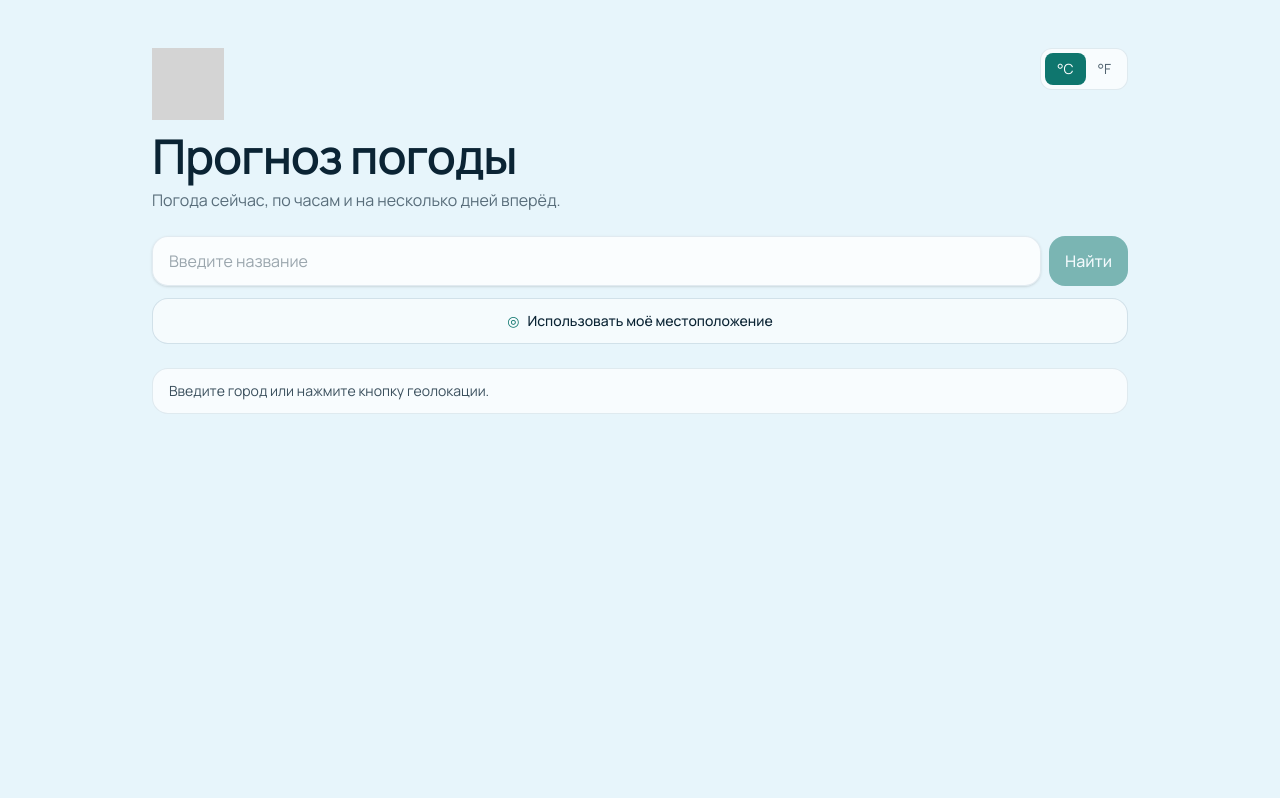
Test: WeatherApp scenarios › lets user pick a city when there are several matches
Type "Paris" into the search field named "Поиск города" at (596, 261), box [152,236,1041,286]
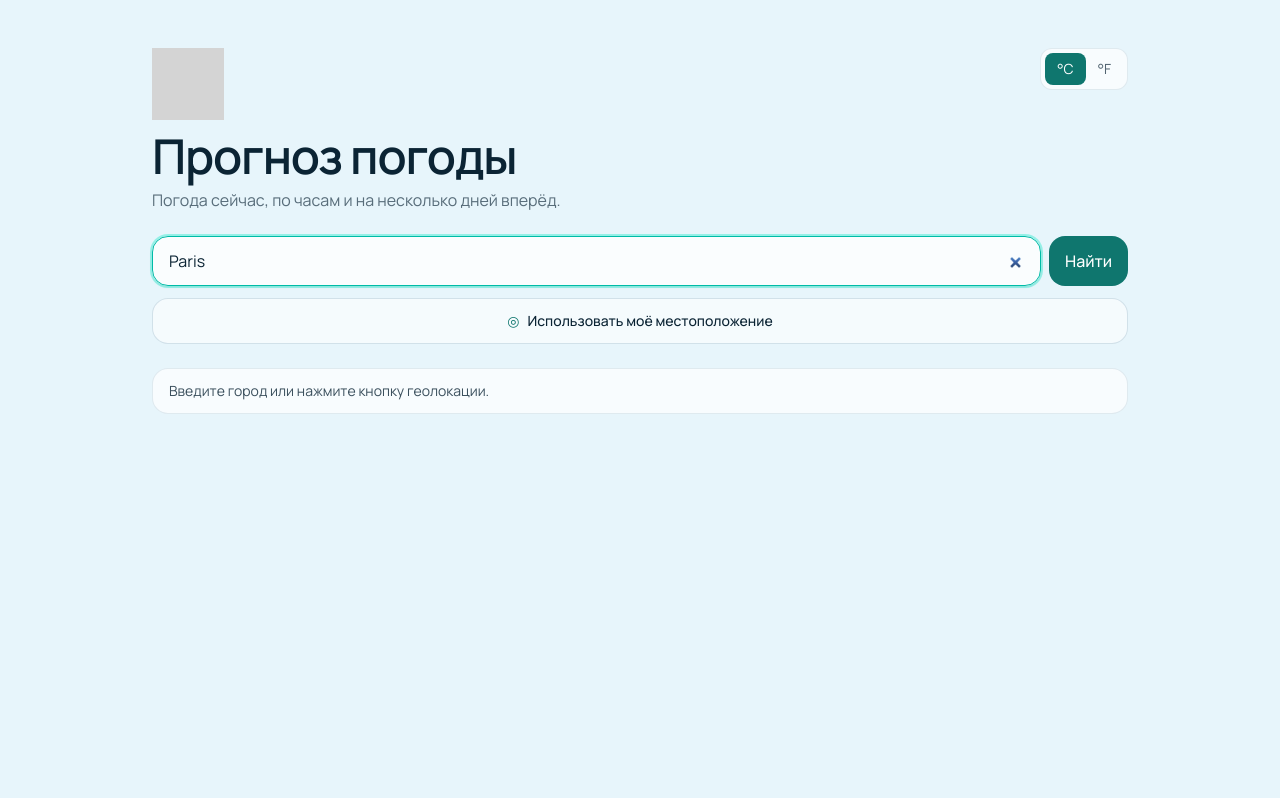
Click the button "Найти" at (1088, 261), box [1049,236,1128,286]
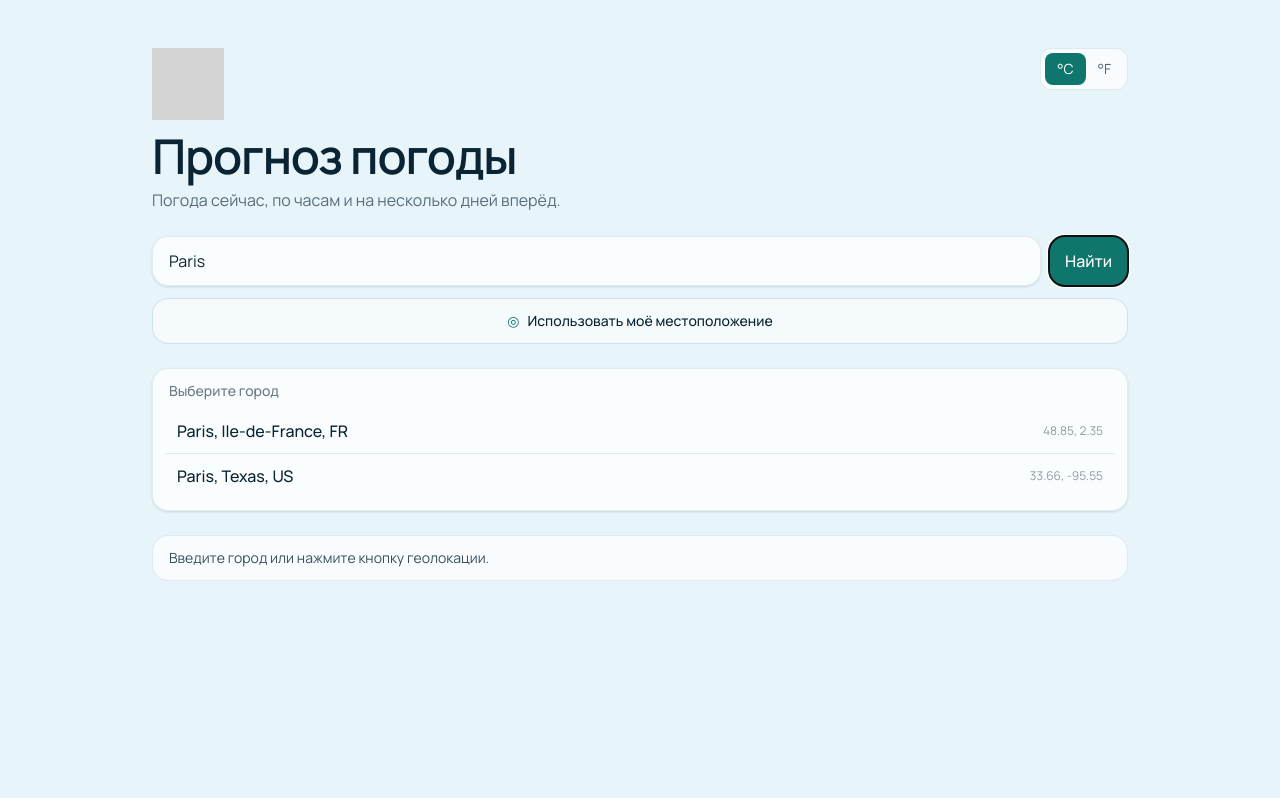
Expected: the heading "Выберите город" is shown, [169,381,279,400]
Click the button "Paris, Texas, US 33.66, -95.55" at (235, 476), box [165,454,1115,498]
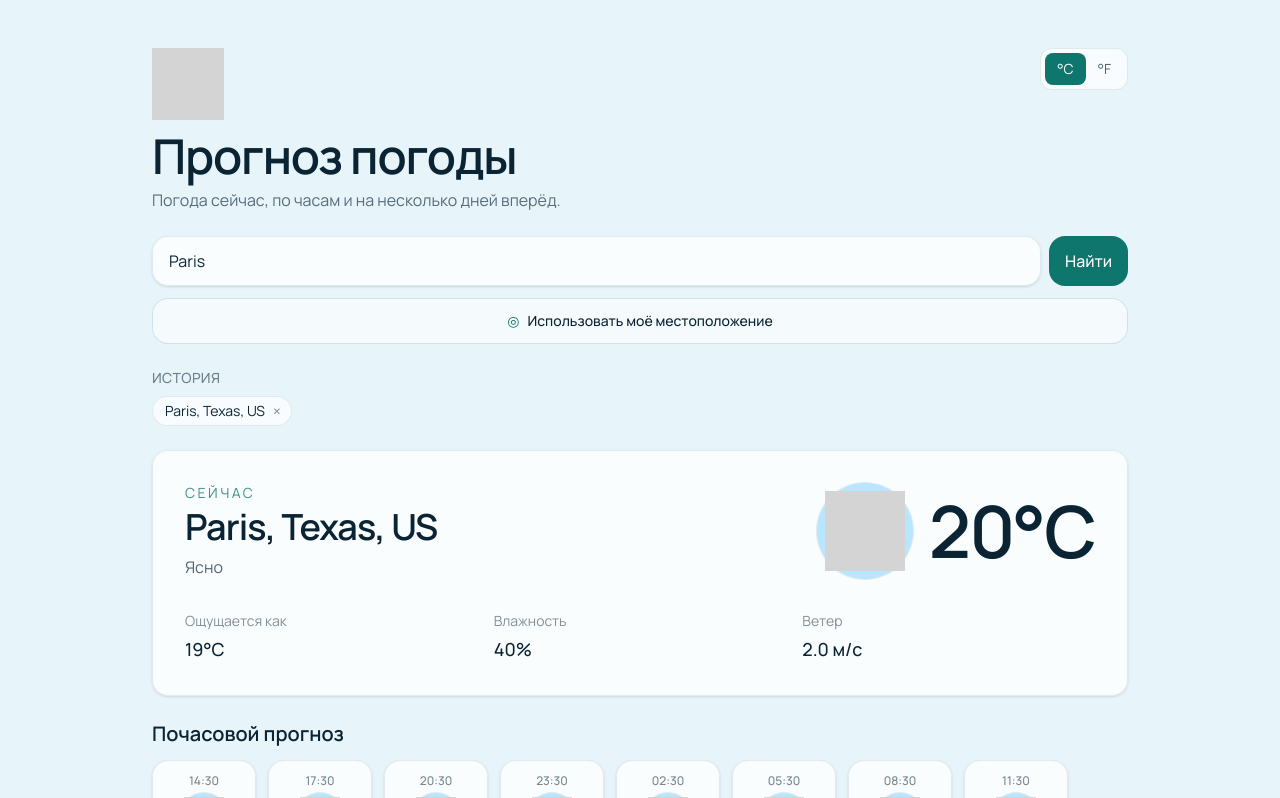
Expected: the heading "Paris, Texas, US" is shown, [185,507,437,547]
